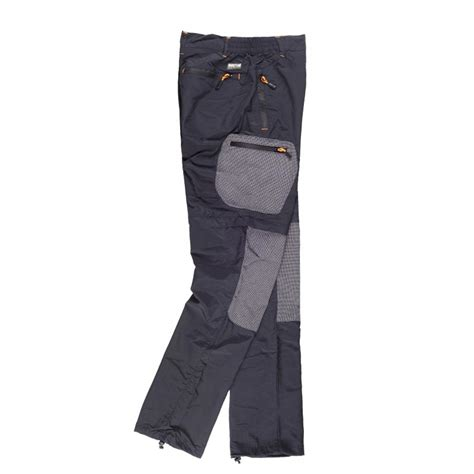nylon: (133, 31, 308, 462)
